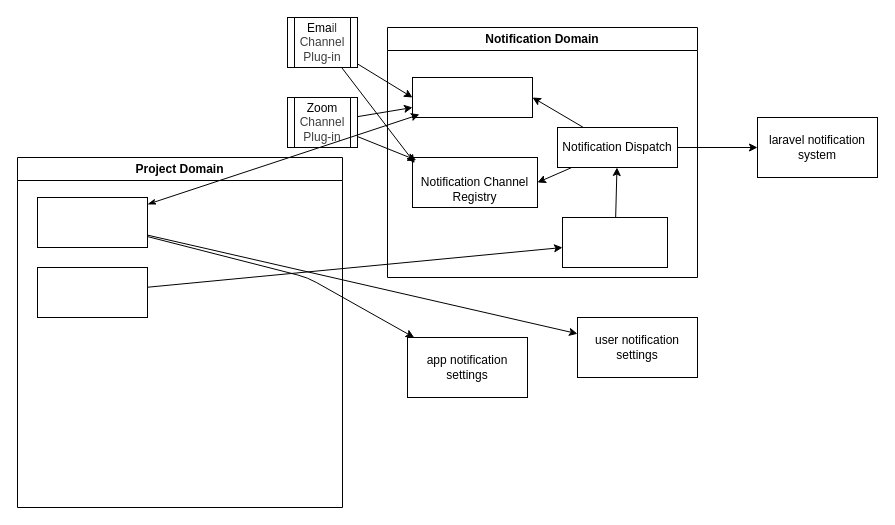
Image size: 895x525. Some labels were removed from this diagram. The centre of each missing label's shape, as x and y in pixels:
base Channel: (615,242)
Notification Registry: (472,97)
project App notification settings: (92,222)
project notifications: (92,292)
